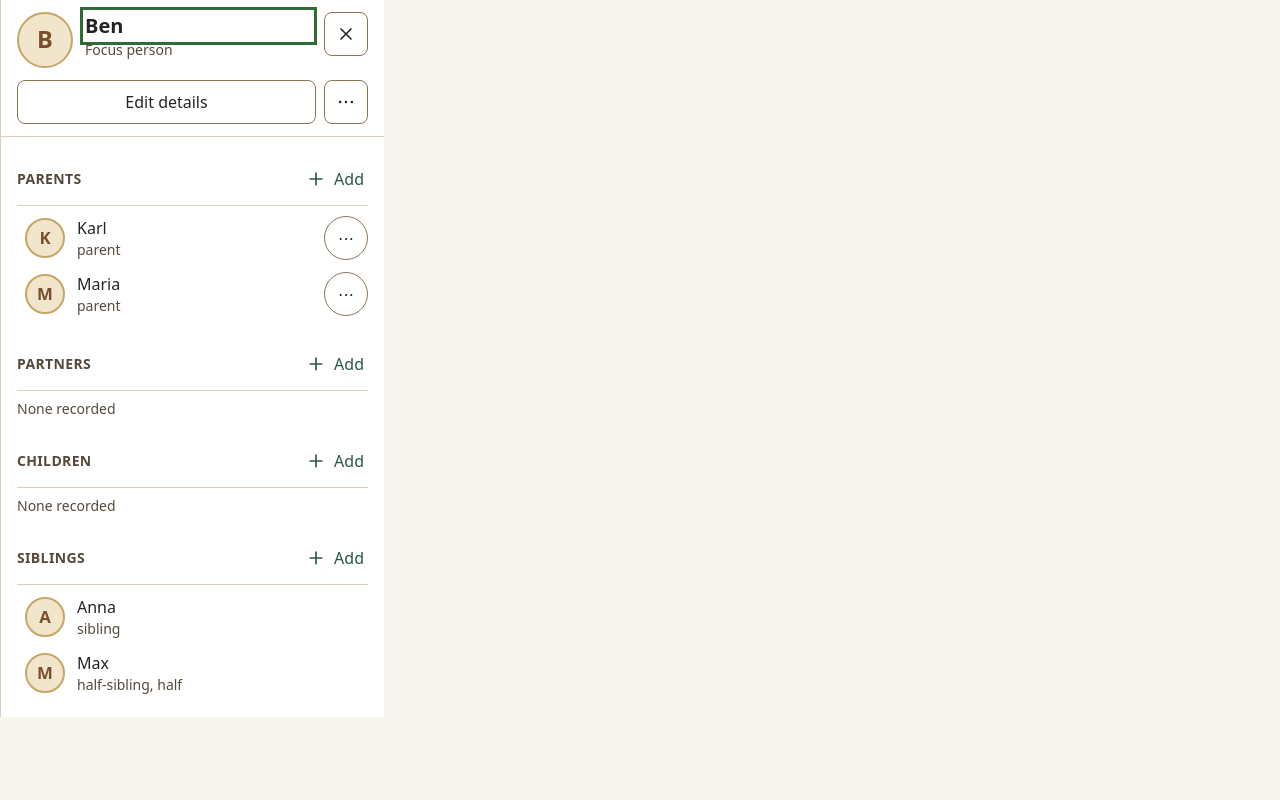
Test: add relative: parents › a third birth parent is blocked with a message and no form
This screenshot has width=1280, height=800.
Click the button with aria-label "Add parent": point(335, 179) [294, 157, 376, 201]
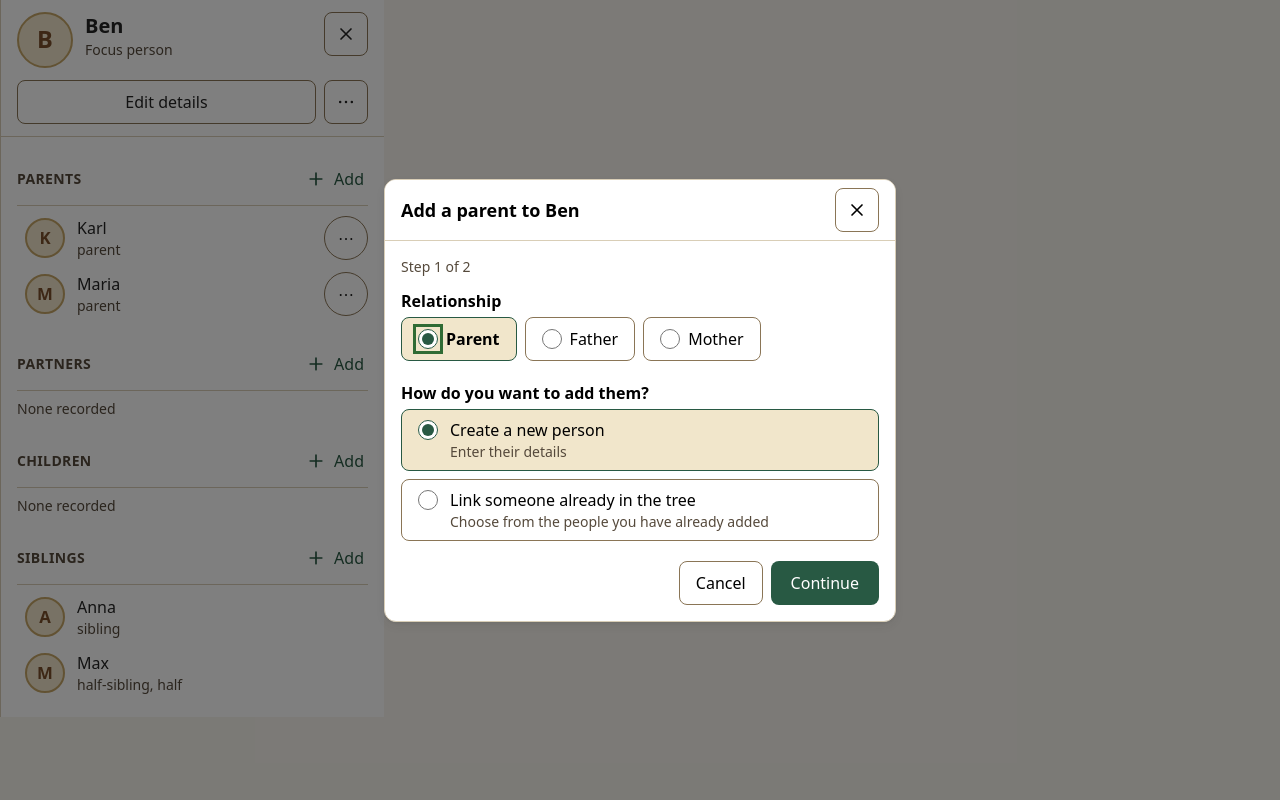
Click the radio button labelled "Father": point(552, 338) [542, 328, 562, 348]
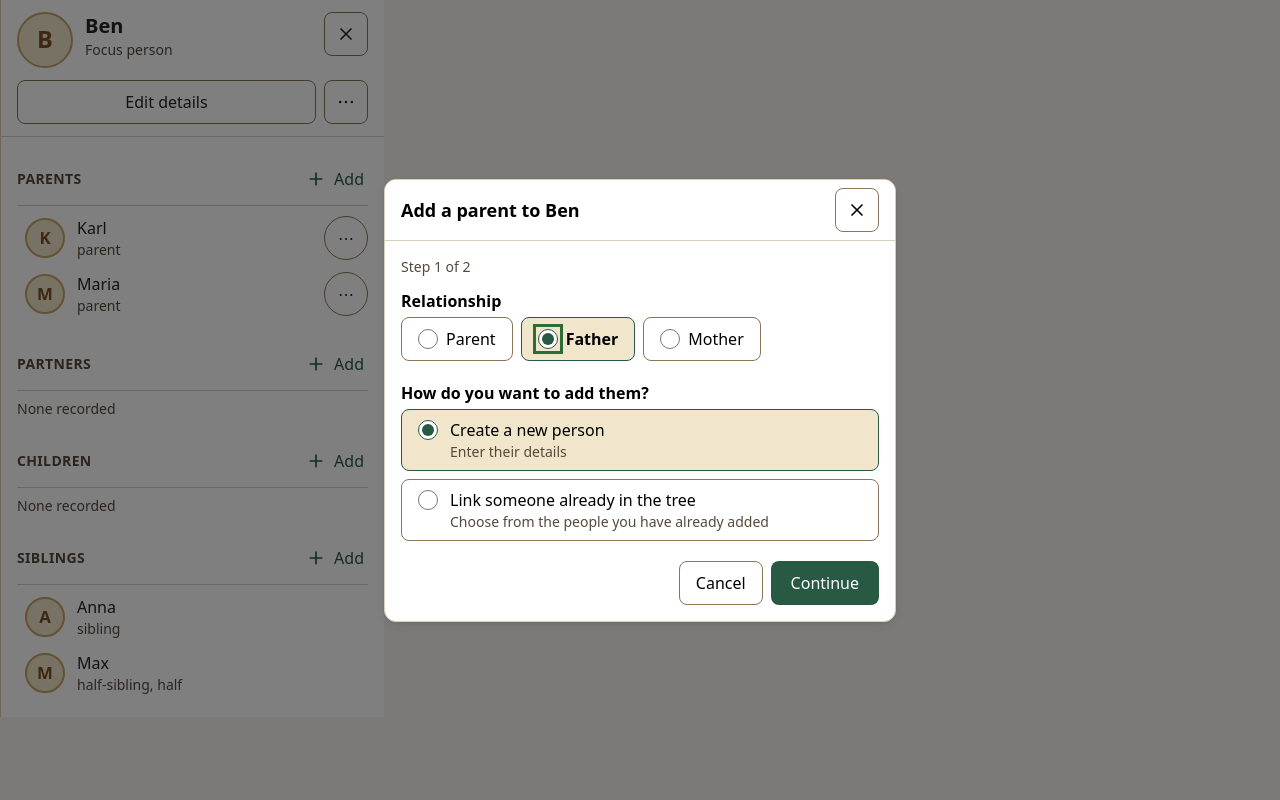
Click the button "Continue": point(825, 582) [771, 560, 879, 604]
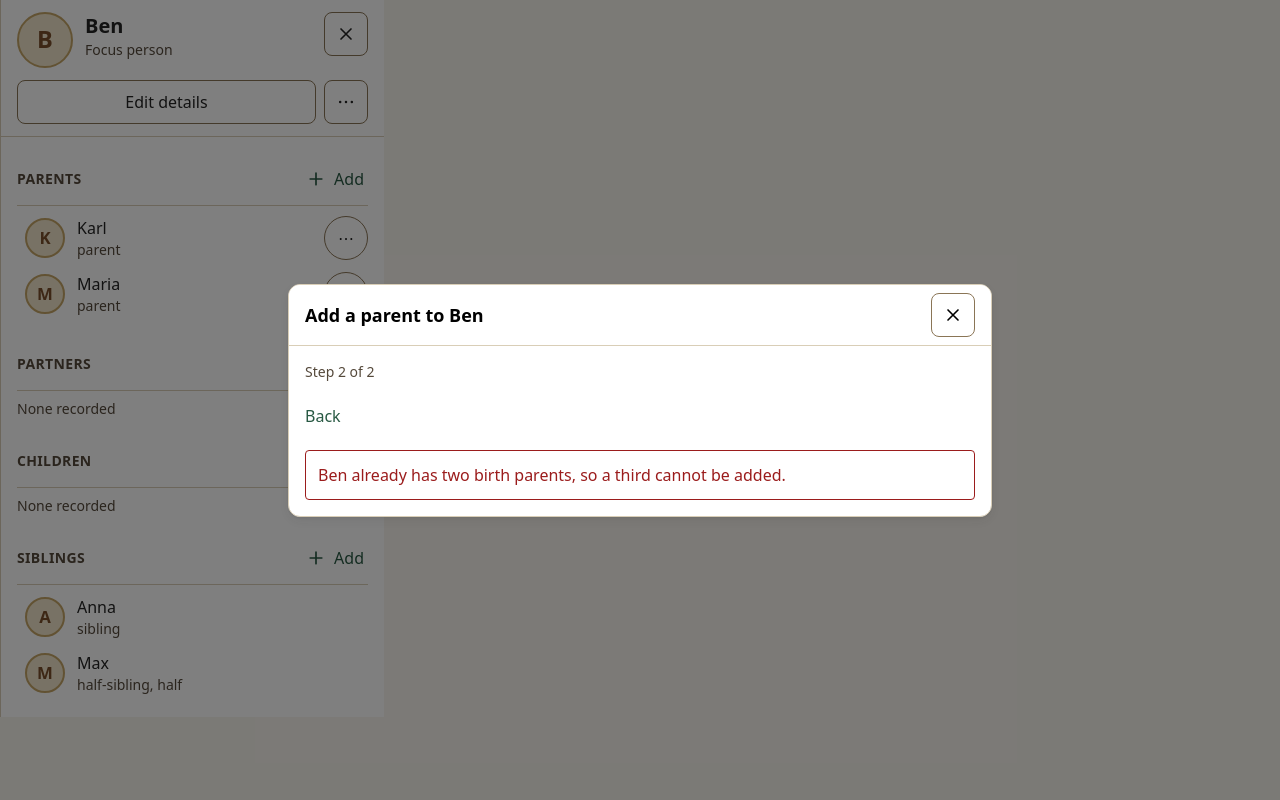
Now the message shows "already has two birth parents", box [318, 464, 786, 486]
